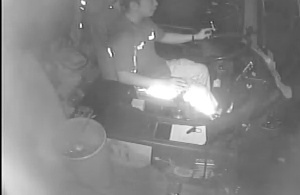paper: (170, 123, 208, 146)
